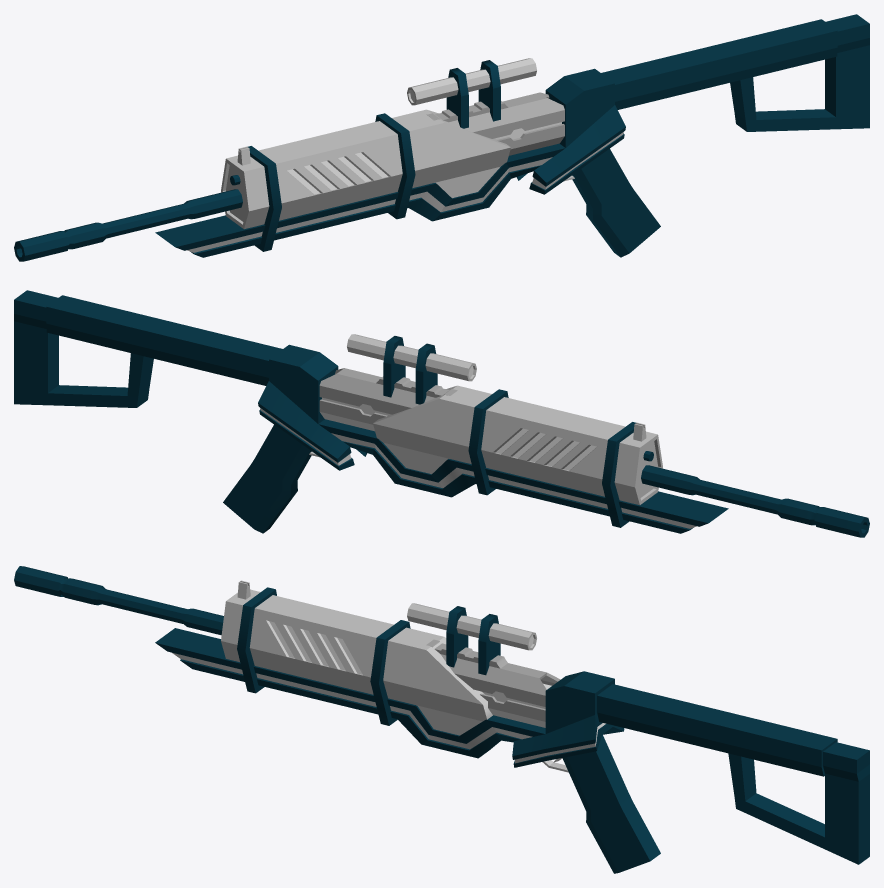
Rendered from Mexhanical_SniperRifle.fbx.
The picture shows the model from 3 angles, top to bottom: view 1: azimuth 30°, elevation 25°; view 2: azimuth 150°, elevation 25°; view 3: azimuth 330°, elevation 25°; orthographic projection.
Parts seen in each view (by area): view 1: pCube4, pCube5, pCylinder1, pCube3, pCylinder3, pCube8, pCube12, pCube13; view 2: pCube4, pCube5, pCylinder1, pCube3, pCylinder3, pCube8, pCube12, pCube13; view 3: pCube4, pCube5, pCube3, pCylinder1, pCylinder3, pCube8, pCube12, pCube13.
Part boxes in pixels (x1,y1,x2,y2): pCube4: (155, 14, 869, 257); pCube5: (221, 109, 510, 229); pCylinder1: (14, 189, 242, 261); pCube3: (426, 92, 564, 155); pCylinder3: (407, 58, 536, 105); pCube8: (446, 60, 500, 128); pCube12: (375, 113, 415, 219); pCube13: (248, 146, 281, 251); pCube4: (14, 290, 728, 533); pCube5: (373, 385, 662, 505); pCylinder1: (641, 465, 869, 537); pCube3: (319, 368, 457, 431); pCylinder3: (347, 334, 476, 381); pCube8: (383, 336, 437, 404); pCube12: (468, 389, 508, 495); pCube13: (602, 422, 635, 527); pCube4: (155, 628, 869, 873); pCube5: (221, 589, 492, 735); pCube3: (426, 639, 560, 727); pCylinder1: (14, 566, 223, 635); pCylinder3: (407, 603, 536, 650); pCube8: (446, 606, 500, 675); pCube12: (370, 620, 410, 725); pCube13: (237, 587, 276, 693).
Size of the model in its own units: 99.84 by 25.15 by 7.51.
